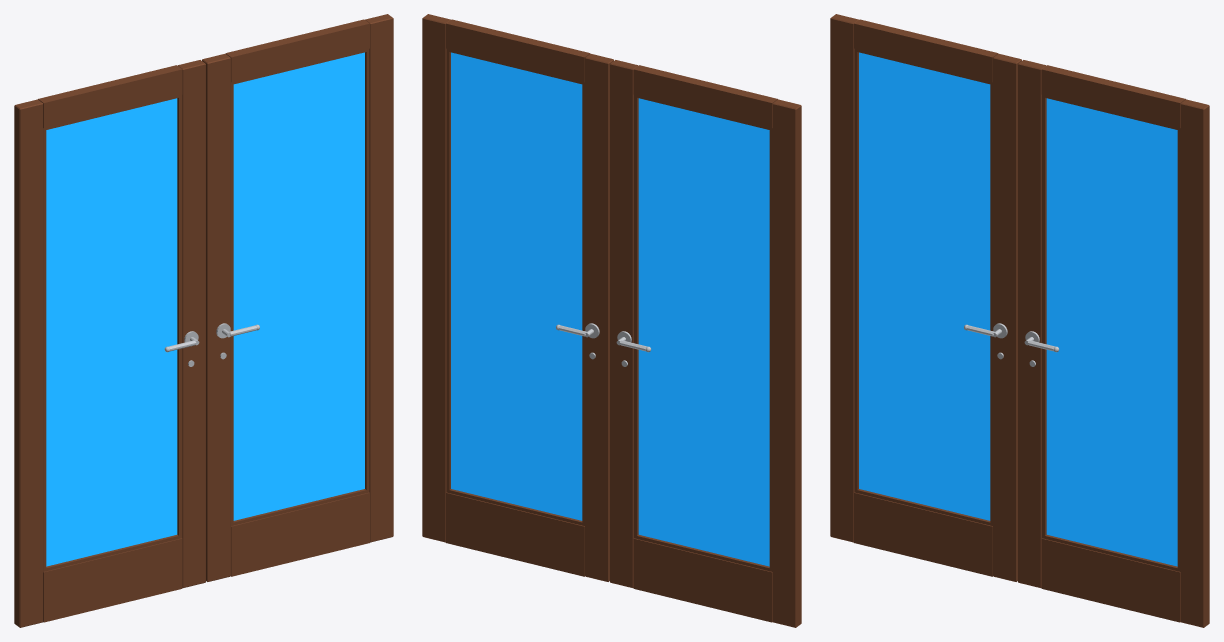
Rendered from porta_dupla_vidro_inteiro_madeira.glb.
3 renders of one model, left to right at view 1: azimuth 30°, elevation 25°; view 2: azimuth 150°, elevation 25°; view 3: azimuth 330°, elevation 25°, orthographic.
Visible parts, largest first — view 1: porta_dupla_vidro_inteiro_madeira; view 2: porta_dupla_vidro_inteiro_madeira; view 3: porta_dupla_vidro_inteiro_madeira.
Part boxes in pixels (x1,y1,x2,y2): porta_dupla_vidro_inteiro_madeira: [14, 14, 393, 627]; porta_dupla_vidro_inteiro_madeira: [422, 14, 801, 627]; porta_dupla_vidro_inteiro_madeira: [830, 14, 1209, 627].
Size of the model in its own units: 1.56 by 2.07 by 0.143.
